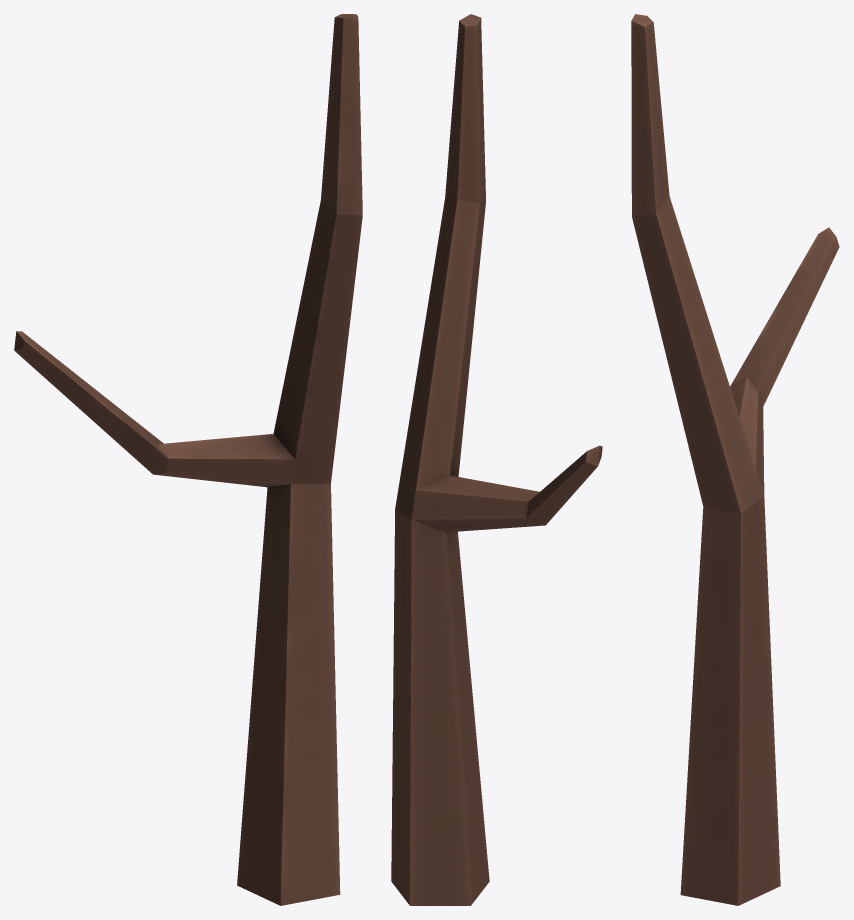
File: Tree_1.fbx
3 views of the same model, side by side, from view 1: azimuth 30°, elevation 25°; view 2: azimuth 150°, elevation 25°; view 3: azimuth 270°, elevation 25° (orthographic). The views are drawn at different scales.
Parts seen in each view (by area): view 1: Tree_1; view 2: Tree_1; view 3: Tree_1.
Boxes of the visible parts, x1=… form: Tree_1: x1=14, y1=14, x2=362, y2=905; Tree_1: x1=391, y1=14, x2=602, y2=905; Tree_1: x1=631, y1=14, x2=839, y2=905.
Bounding box in the file's own units: 31.07 × 98.61 × 21.35.
